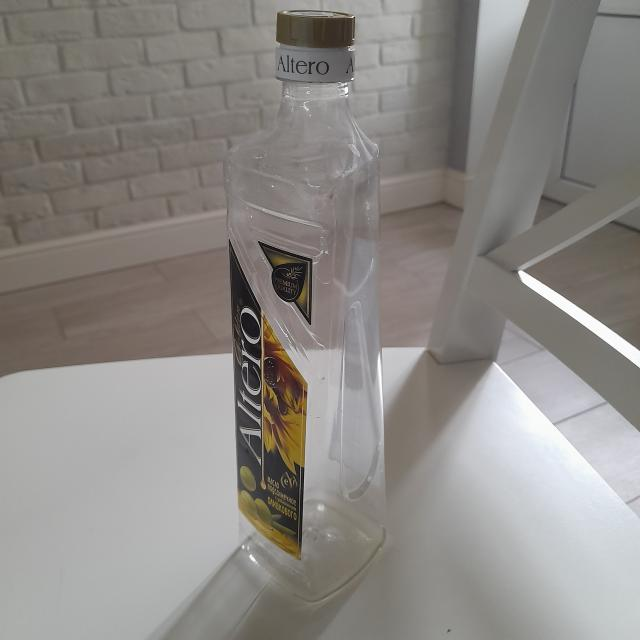empty: (225, 9, 385, 600)
